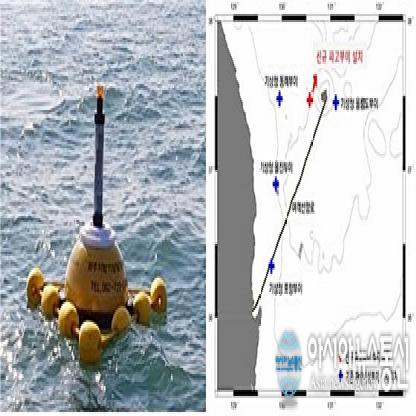buoy: (17, 68, 171, 366)
